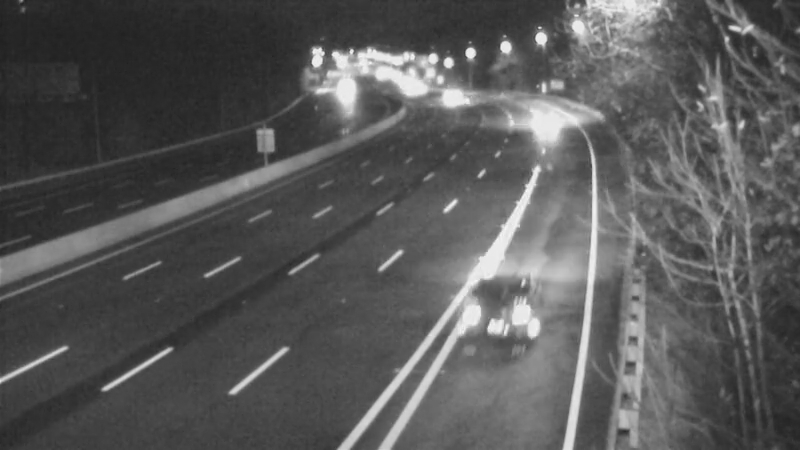vehicle: (444, 264, 554, 374), (388, 66, 438, 116), (424, 73, 474, 123), (521, 95, 571, 145), (319, 65, 369, 115)
